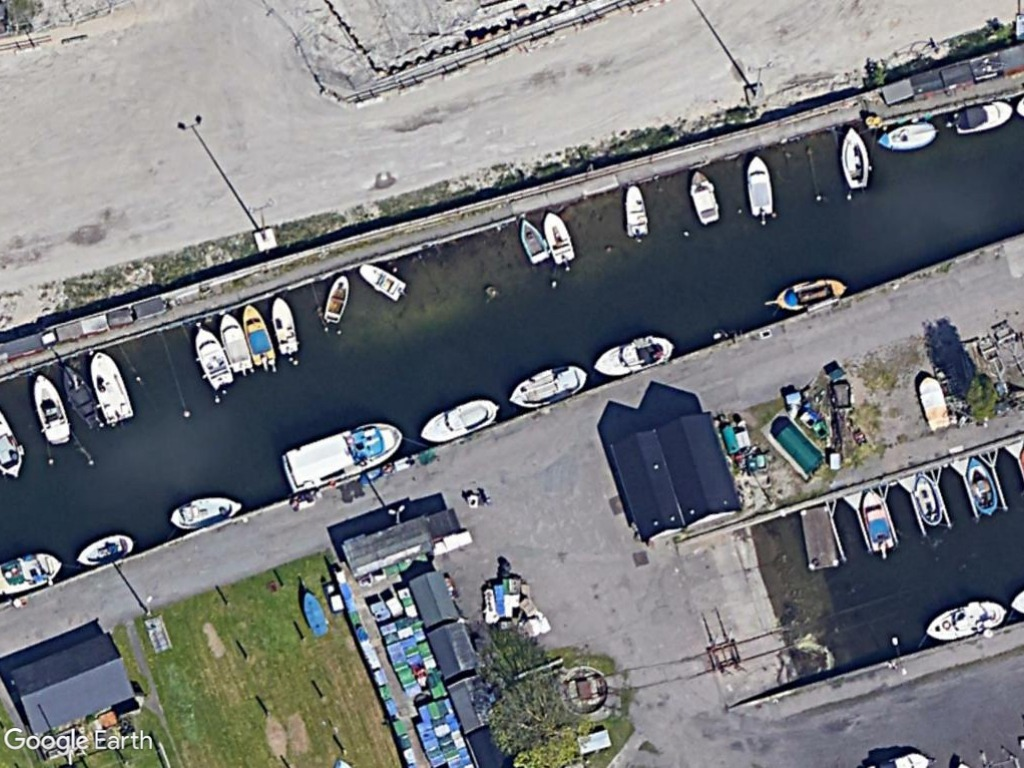boat: (278, 416, 404, 497), (918, 595, 1013, 646), (504, 360, 590, 413), (414, 395, 502, 446), (590, 331, 676, 381), (88, 347, 138, 430), (29, 368, 77, 449), (166, 489, 245, 534), (192, 319, 236, 393), (912, 369, 957, 439), (771, 277, 849, 317), (72, 527, 137, 573), (740, 149, 780, 223), (948, 97, 1018, 139), (875, 114, 942, 156), (860, 484, 897, 557), (217, 310, 256, 378), (267, 288, 303, 361), (240, 299, 276, 371), (840, 123, 875, 195), (965, 453, 1001, 522), (356, 260, 410, 305), (540, 207, 578, 269), (686, 166, 722, 231), (320, 268, 357, 329), (515, 214, 553, 269), (620, 178, 652, 241)
